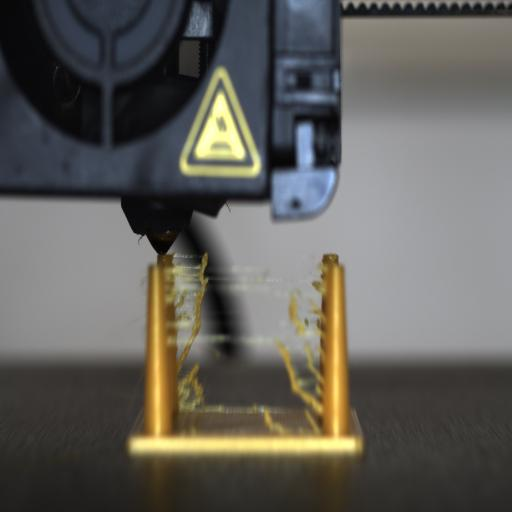stringing: (170, 254, 327, 432)
